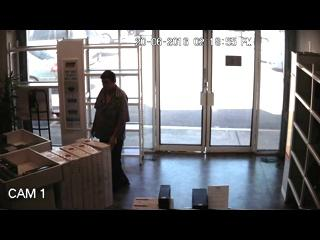Normal: (90, 70, 130, 192)
